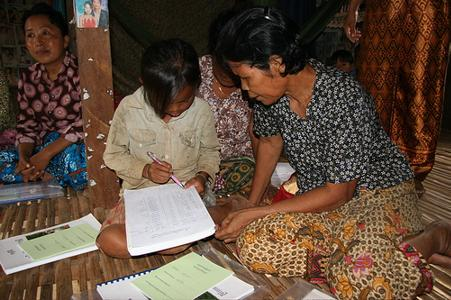person: (95, 38, 221, 257)
